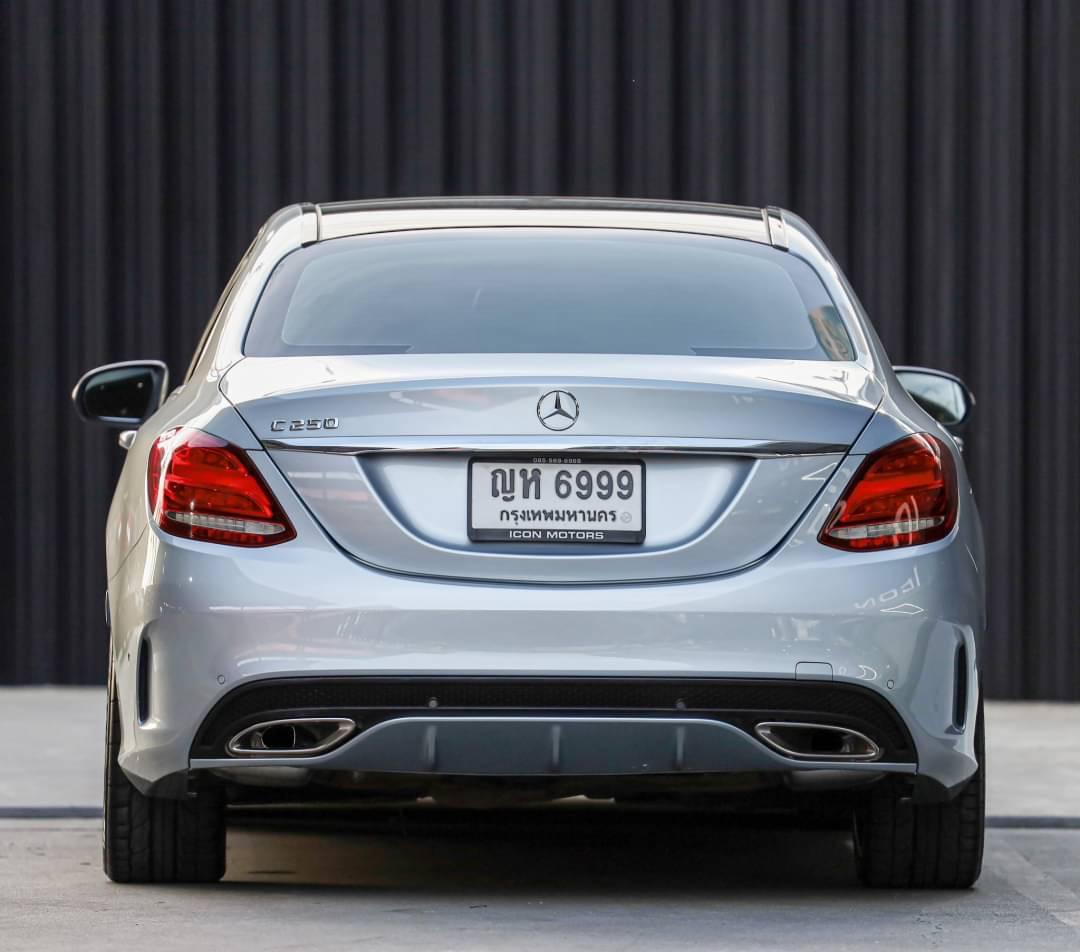license-plate: (465, 452, 648, 545)
